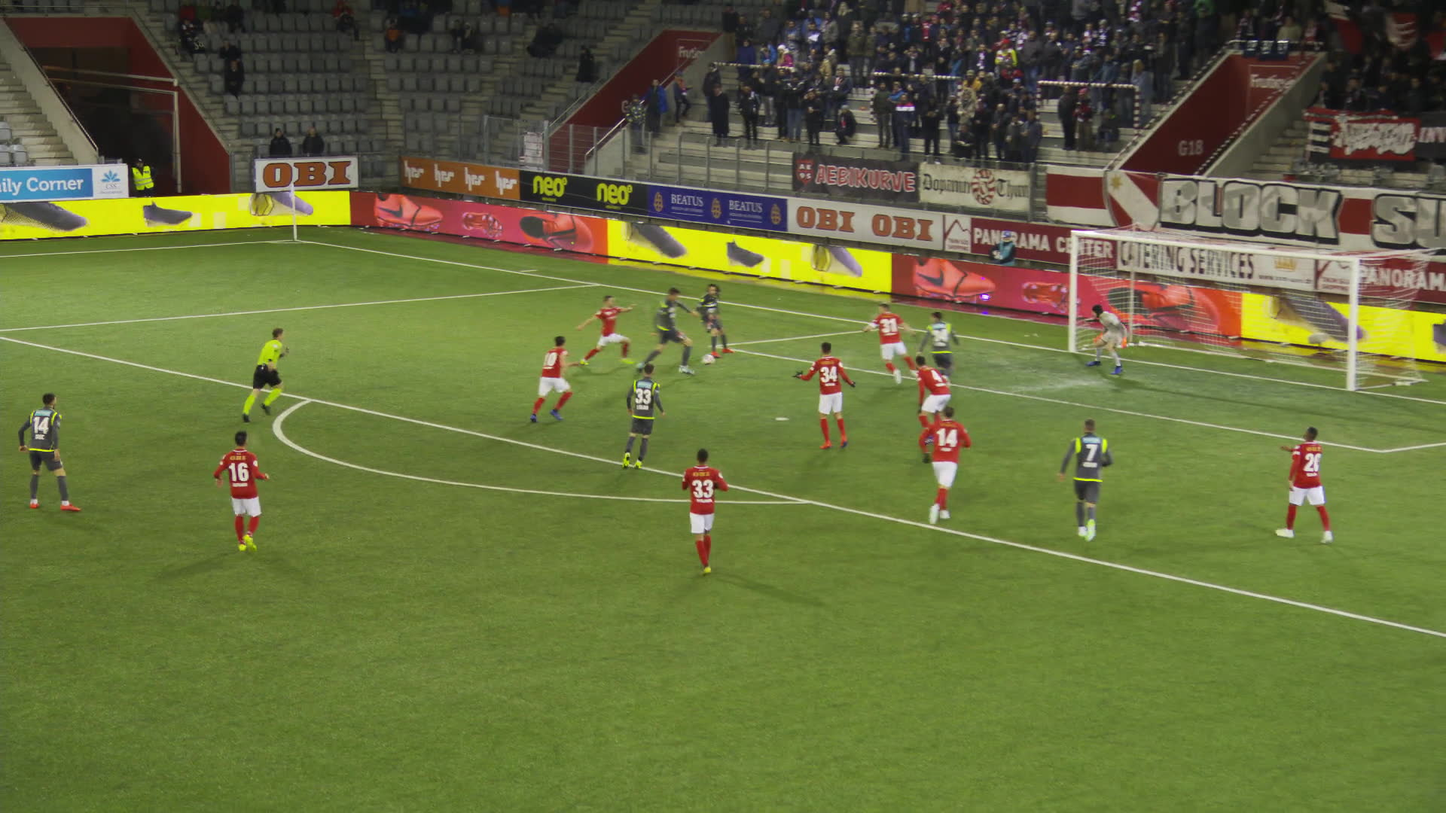ball: (702, 354, 714, 365)
player: (661, 437, 740, 590), (17, 391, 80, 513), (212, 430, 270, 553), (792, 342, 857, 450), (1050, 419, 1104, 547), (1274, 425, 1326, 543), (914, 406, 965, 525), (632, 288, 698, 378), (621, 361, 664, 469), (529, 335, 581, 423), (861, 303, 918, 383), (575, 295, 637, 365), (915, 312, 958, 388), (1086, 303, 1130, 374), (688, 284, 730, 358), (908, 354, 946, 428)
referee: (241, 328, 289, 423)
